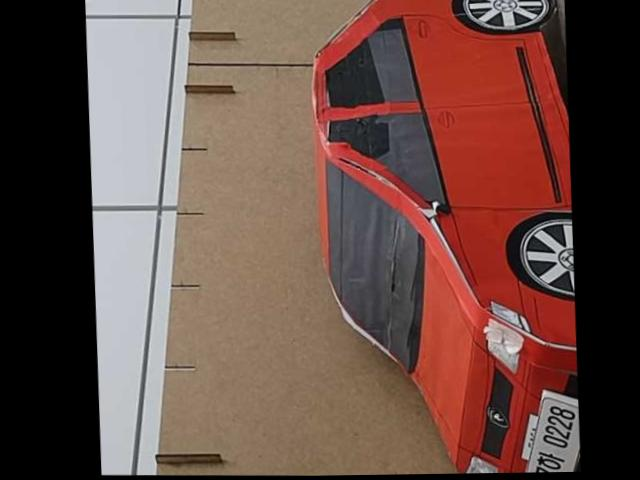car: (295, 0, 589, 476)
id: (510, 387, 582, 473)
